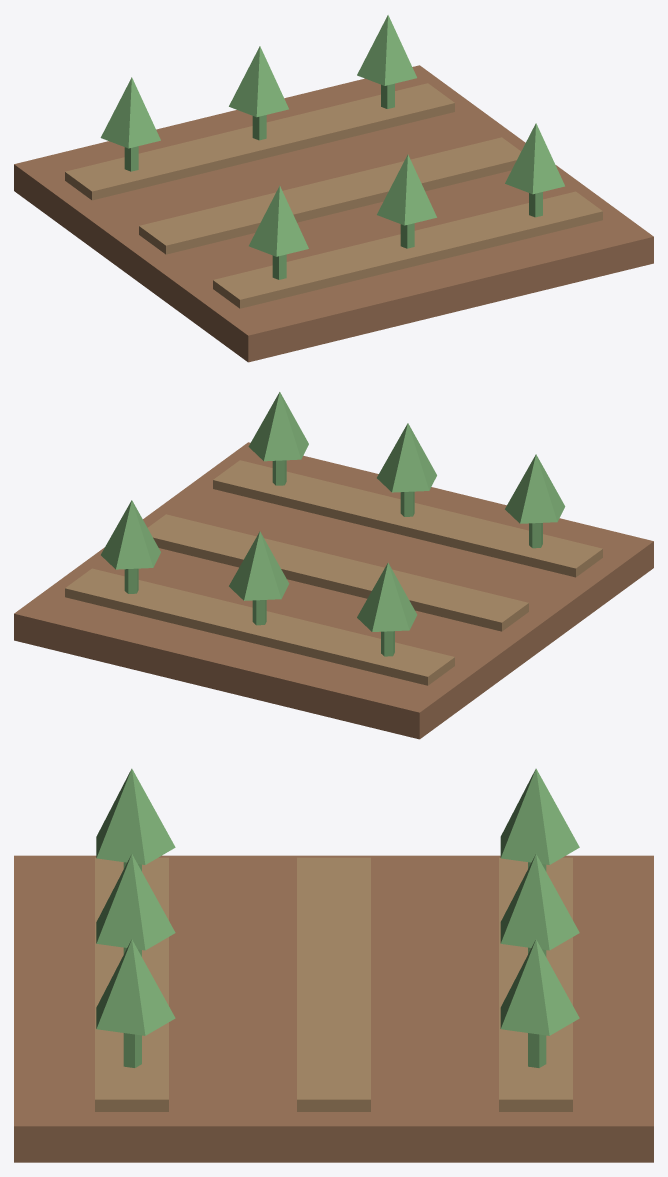
The model's file is farm_plot.glb.
The picture shows the model from 3 angles, top to bottom: view 1: azimuth 30°, elevation 25°; view 2: azimuth 150°, elevation 25°; view 3: azimuth 270°, elevation 25°; orthographic projection. The views are drawn at different scales.
Visible parts, largest first — view 1: soil, furrow, furrow.002, furrow.001, crop, crop.001, crop.002, crop.004, crop.003, crop.005; view 2: soil, furrow, furrow.002, furrow.001, crop, crop.003, crop.002, crop.004, crop.005, crop.001; view 3: soil, furrow.001, furrow.002, furrow, crop.005, crop.004, crop, crop.001, crop.003, crop.002, stem.004, stem.005.
Part boxes in pixels (x1=…): soil: x1=14, y1=65, x2=653, y2=362; furrow: x1=213, y1=191, x2=602, y2=308; furrow.002: x1=65, y1=83, x2=454, y2=200; furrow.001: x1=139, y1=137, x2=520, y2=254; crop: x1=249, y1=185, x2=308, y2=256; crop.001: x1=100, y1=77, x2=160, y2=148; crop.002: x1=377, y1=154, x2=436, y2=225; crop.004: x1=505, y1=123, x2=564, y2=194; crop.003: x1=229, y1=46, x2=288, y2=117; crop.005: x1=357, y1=15, x2=416, y2=85; soil: x1=14, y1=442, x2=653, y2=739; furrow: x1=213, y1=460, x2=602, y2=577; furrow.002: x1=65, y1=568, x2=454, y2=685; furrow.001: x1=148, y1=514, x2=528, y2=631; crop: x1=505, y1=454, x2=565, y2=523; crop.003: x1=229, y1=531, x2=289, y2=600; crop.002: x1=377, y1=423, x2=436, y2=492; crop.004: x1=248, y1=392, x2=308, y2=461; crop.005: x1=101, y1=500, x2=160, y2=569; crop.001: x1=357, y1=562, x2=417, y2=631; soil: x1=14, y1=855, x2=653, y2=1162; furrow.001: x1=297, y1=857, x2=370, y2=1111; furrow.002: x1=499, y1=857, x2=572, y2=1111; furrow: x1=95, y1=857, x2=168, y2=1111; crop.005: x1=500, y1=939, x2=579, y2=1035; crop.004: x1=96, y1=939, x2=175, y2=1035; crop: x1=96, y1=768, x2=175, y2=864; crop.001: x1=500, y1=768, x2=579, y2=864; crop.003: x1=500, y1=854, x2=579, y2=950; crop.002: x1=96, y1=854, x2=175, y2=950; stem.004: x1=123, y1=1033, x2=141, y2=1067; stem.005: x1=528, y1=1033, x2=546, y2=1067.
Bounding box in the file's own units: 1.9 × 0.57 × 1.9.
